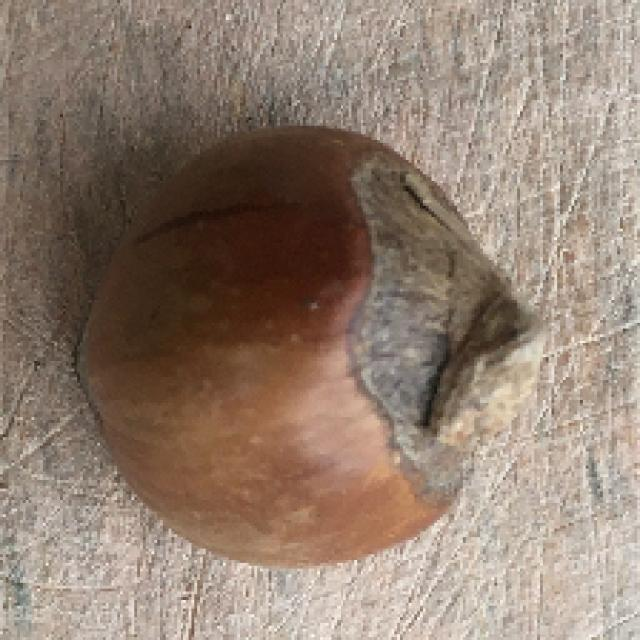damagedHazelnut: (64, 118, 532, 573)
